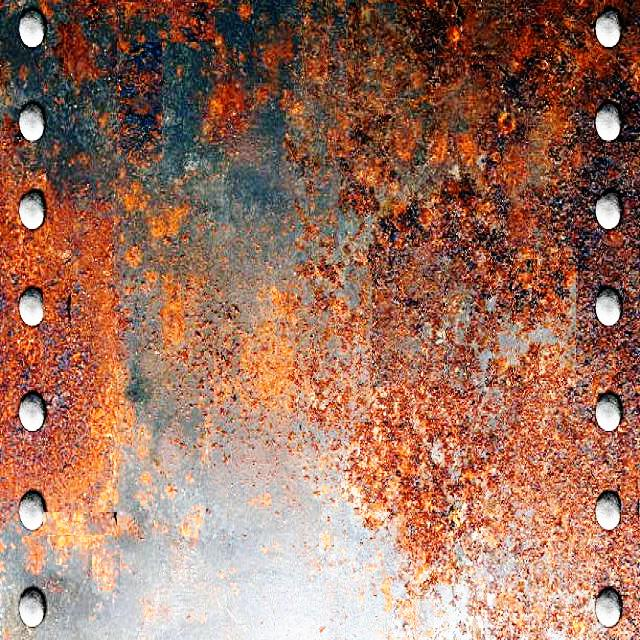Corrosion: (345, 221, 576, 639), (395, 43, 585, 349), (27, 200, 121, 510), (342, 24, 428, 186), (524, 52, 600, 208), (233, 288, 303, 412), (555, 504, 634, 599), (568, 406, 630, 495)
